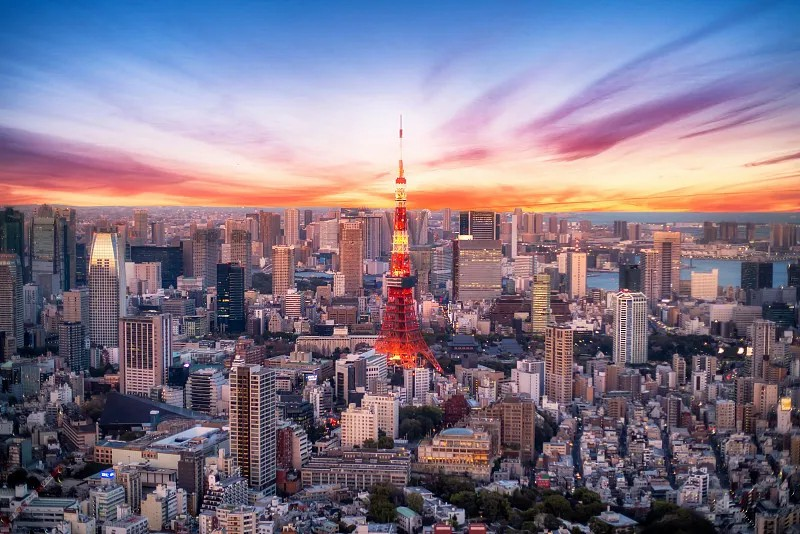Tokyo: (373, 110, 445, 374)
